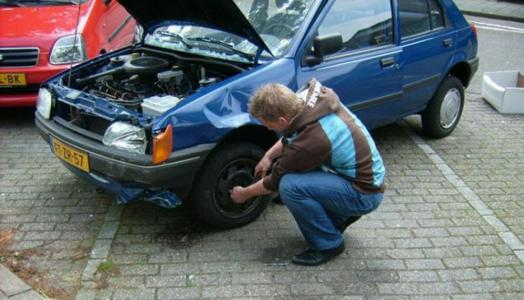person: (228, 76, 388, 266)
